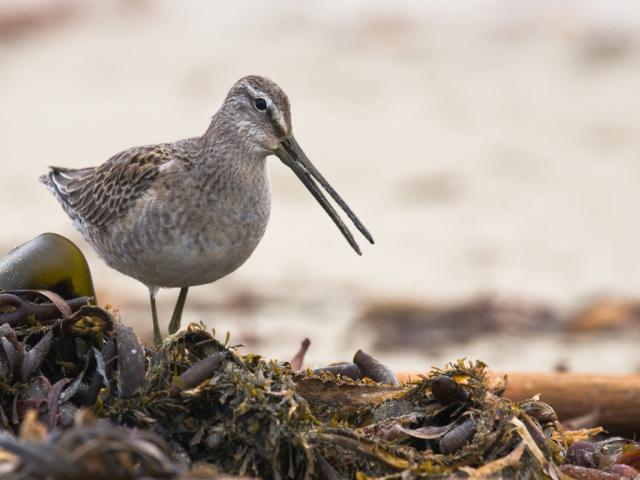Bird: (38, 72, 374, 355)
